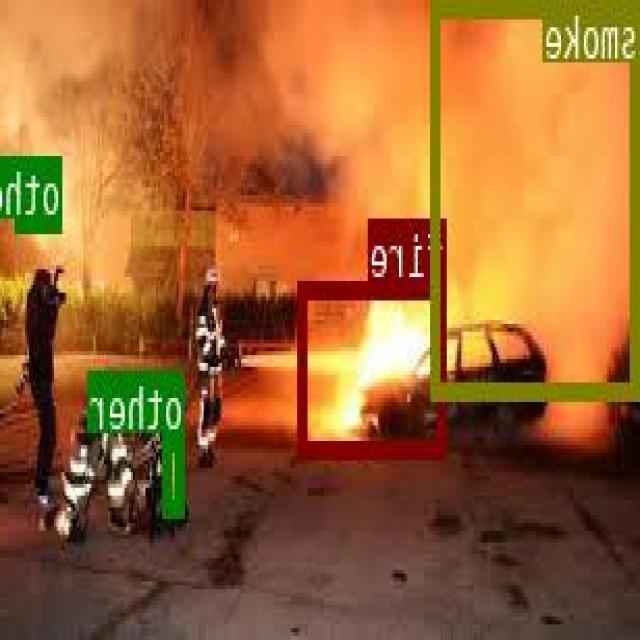fire: (301, 279, 448, 456)
other: (19, 152, 64, 229), (166, 432, 186, 514)
smoke: (432, 0, 640, 394)
